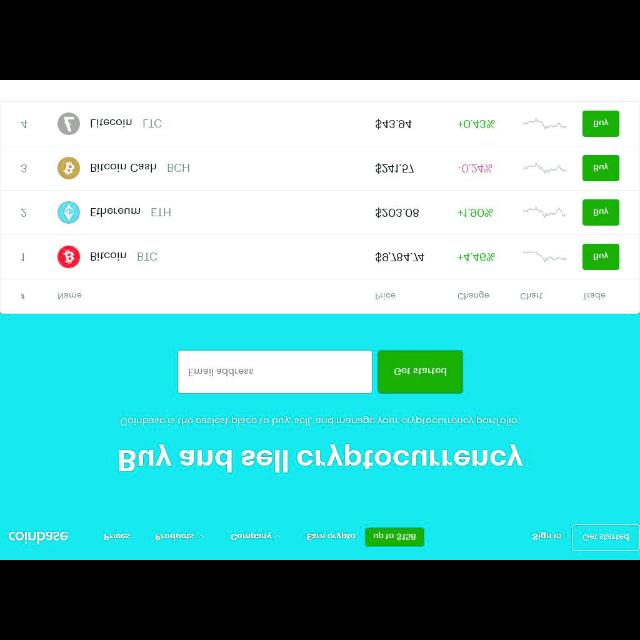icon: (54, 154, 84, 180), (58, 200, 80, 228), (55, 246, 81, 268), (58, 112, 80, 138), (196, 534, 206, 540), (276, 534, 282, 540)
image: (516, 241, 574, 269), (518, 198, 574, 226), (522, 154, 572, 182), (522, 110, 570, 136)
input: (178, 350, 372, 392)
spinner: (232, 532, 282, 542), (152, 534, 208, 542)
text: (117, 446, 521, 468), (120, 417, 520, 427), (189, 364, 257, 378), (392, 364, 448, 378), (372, 251, 426, 265), (454, 116, 496, 134), (8, 530, 68, 542), (89, 162, 158, 172), (456, 160, 494, 178), (88, 204, 142, 216), (374, 206, 420, 220), (452, 206, 496, 220), (306, 530, 356, 542), (376, 114, 412, 130), (374, 160, 414, 174), (456, 249, 494, 263), (88, 118, 134, 128), (584, 532, 630, 542), (91, 250, 127, 262), (136, 248, 162, 262), (164, 160, 192, 173), (103, 530, 131, 542), (458, 291, 490, 301), (531, 530, 563, 540), (580, 290, 610, 300), (141, 117, 161, 131), (372, 292, 398, 302), (148, 206, 174, 216), (154, 534, 194, 540), (231, 534, 271, 540), (54, 291, 84, 299), (15, 118, 30, 128), (522, 292, 544, 298), (19, 205, 29, 217), (20, 162, 26, 174), (19, 254, 23, 262)
textbutton: (378, 352, 462, 392), (569, 526, 637, 550), (582, 243, 622, 270), (582, 200, 618, 230), (366, 530, 422, 546), (584, 155, 618, 181), (583, 112, 617, 136)
toolbar: (2, 522, 630, 558)
